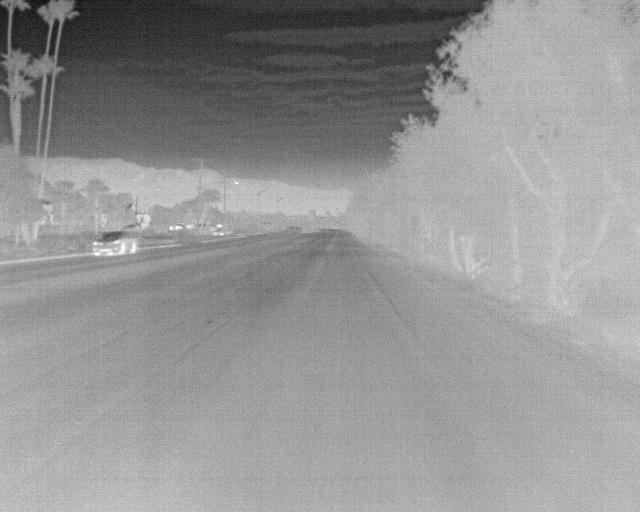car: (90, 229, 137, 258)
